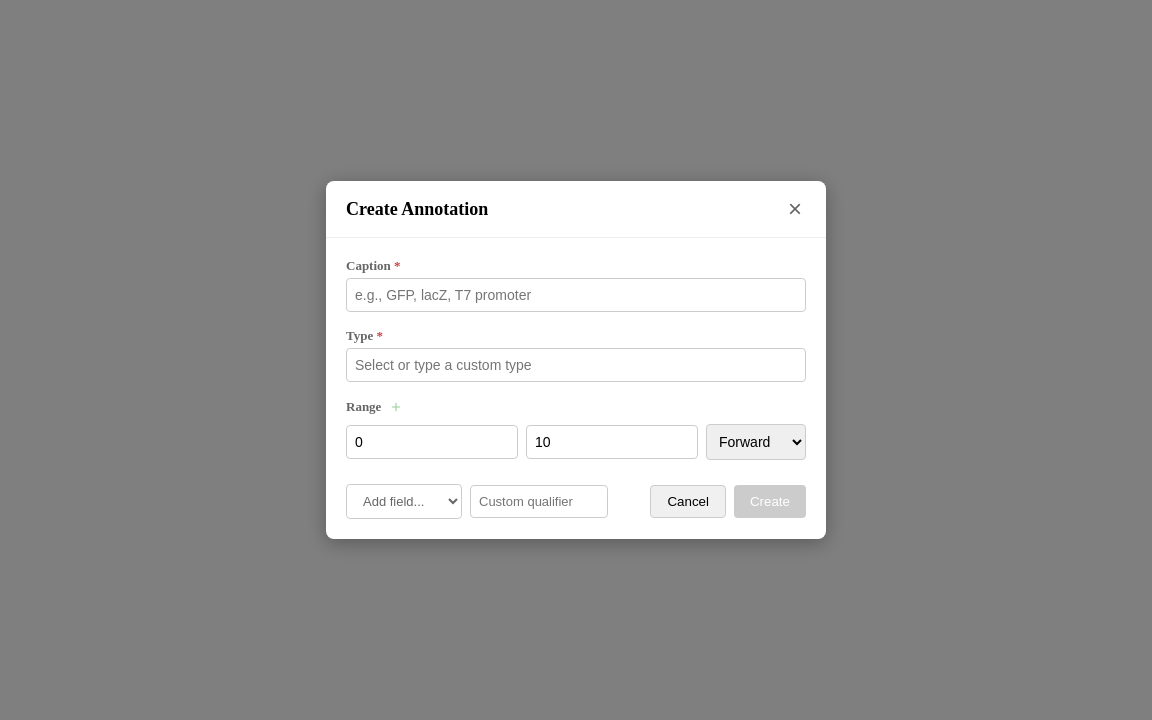
Test: AnnotationModal › ranges section › adds new range when + button clicked
expect the number of elements with class "range-row" is 1: met, box [346,424,806,460]
Click the button with class "btn-add-range" at [396, 407], box [387,398,405,416]
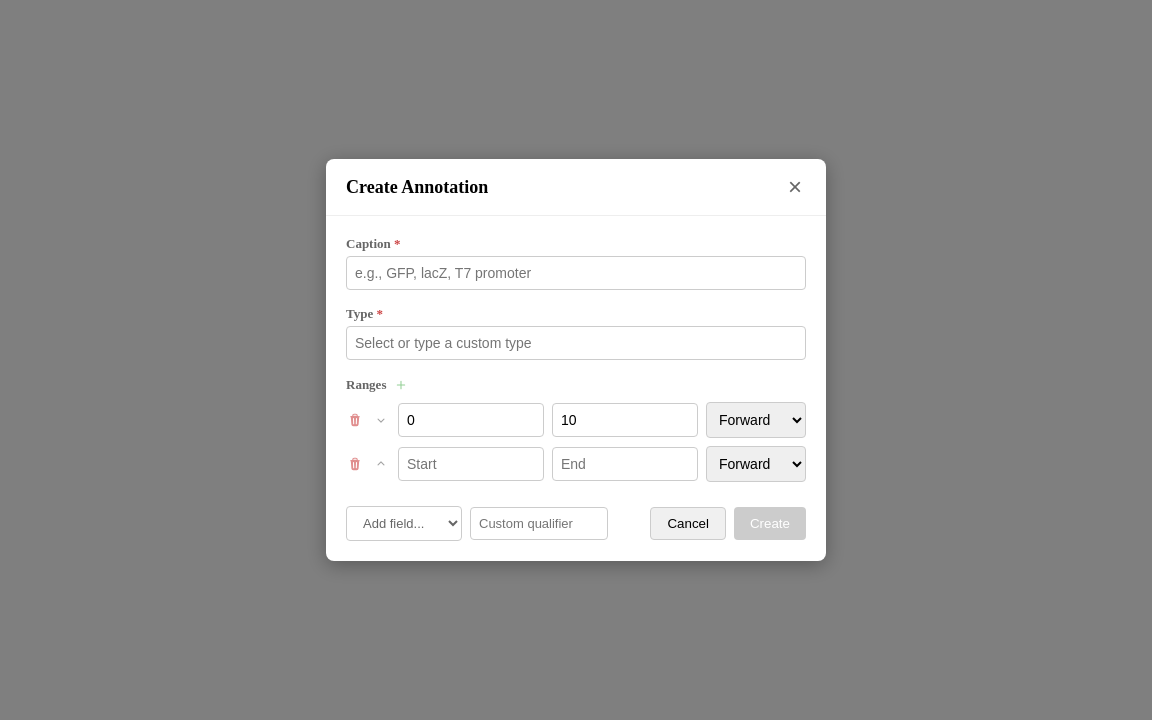
expect the number of elements with class "range-row" is 2: met, box [346,402,806,438]; [346,446,806,482]
